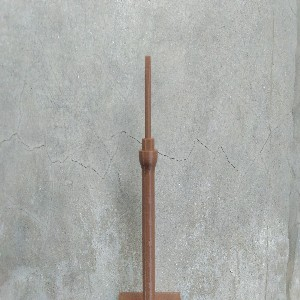obeng: (138, 55, 158, 300)
